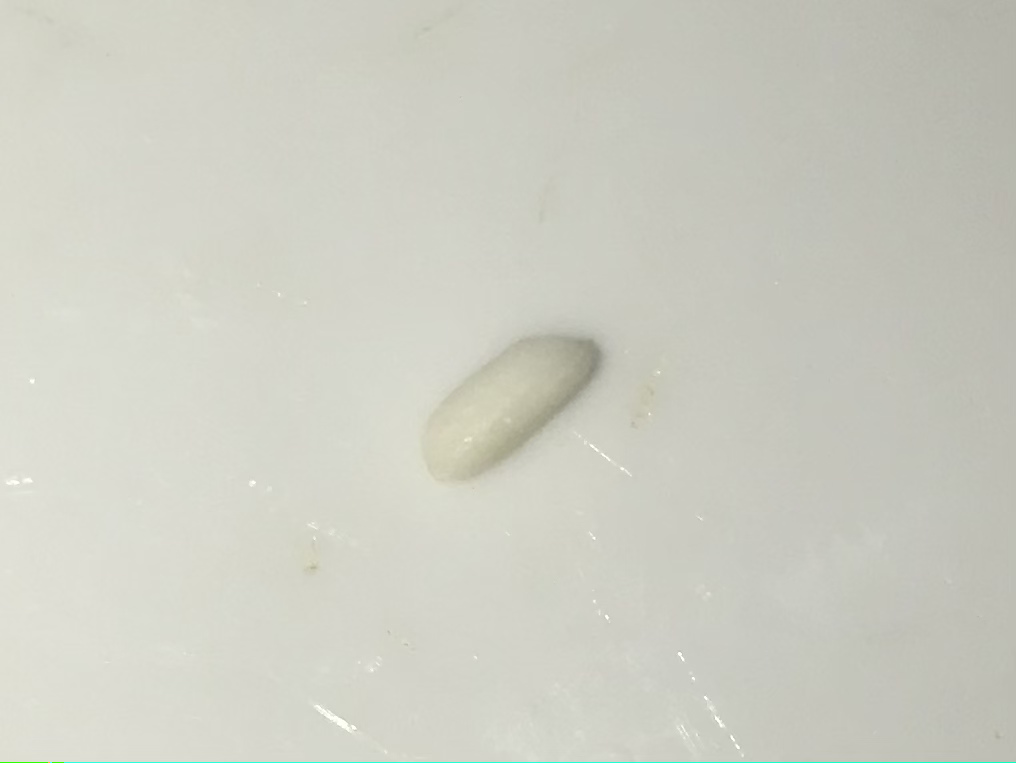Gao Nep Sap: (413, 305, 605, 500)
